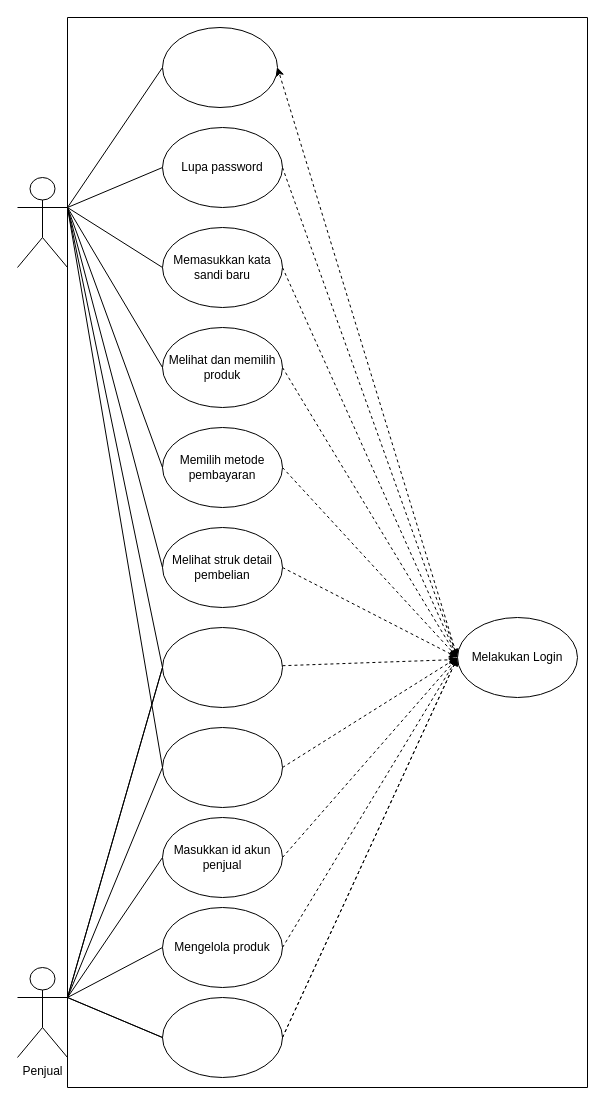
This 605x1105 diagram has some shape labels left out. The centre of each missing label's shape, as x and y in pixels:
"Log out" belongs at point (222, 767).
"Melihat dan mengedit profil akun pengguna" belongs at point (222, 667).
"Memperbaiki sistem jika terjadi bug" belongs at point (222, 1037).
"Pembeli" belongs at point (42, 222).
"Registrasi" belongs at point (220, 67).
